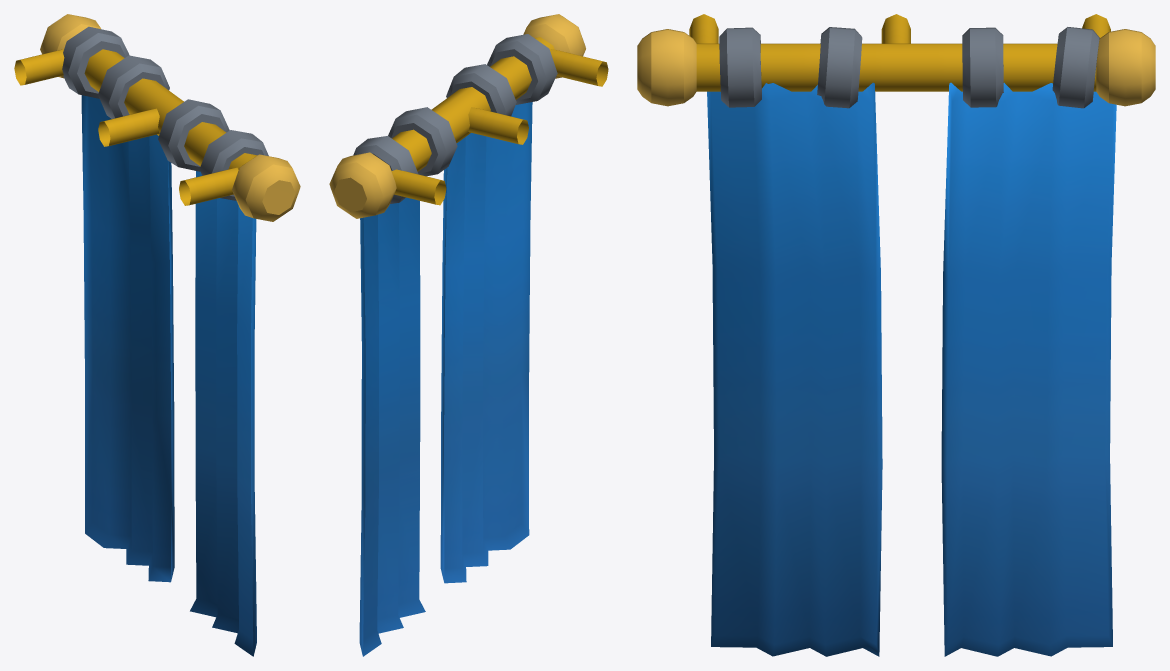
File: Curtains_Short_2_A_H.glb
3 views of the same model, side by side, from view 1: azimuth 30°, elevation 25°; view 2: azimuth 150°, elevation 25°; view 3: azimuth 270°, elevation 25° (orthographic). The views are drawn at different scales.
Visible parts, largest first — view 1: Curtains_Short_2_A_H; view 2: Curtains_Short_2_A_H; view 3: Curtains_Short_2_A_H.
Boxes of the visible parts, x1,y1,x2,y2 form: Curtains_Short_2_A_H: (14,14,300,656); Curtains_Short_2_A_H: (329,14,608,656); Curtains_Short_2_A_H: (637,14,1155,656).
Bounding box in the file's own units: 0.2275 × 1.16 × 0.8807.
Materials: 2 (2 with a texture image).
